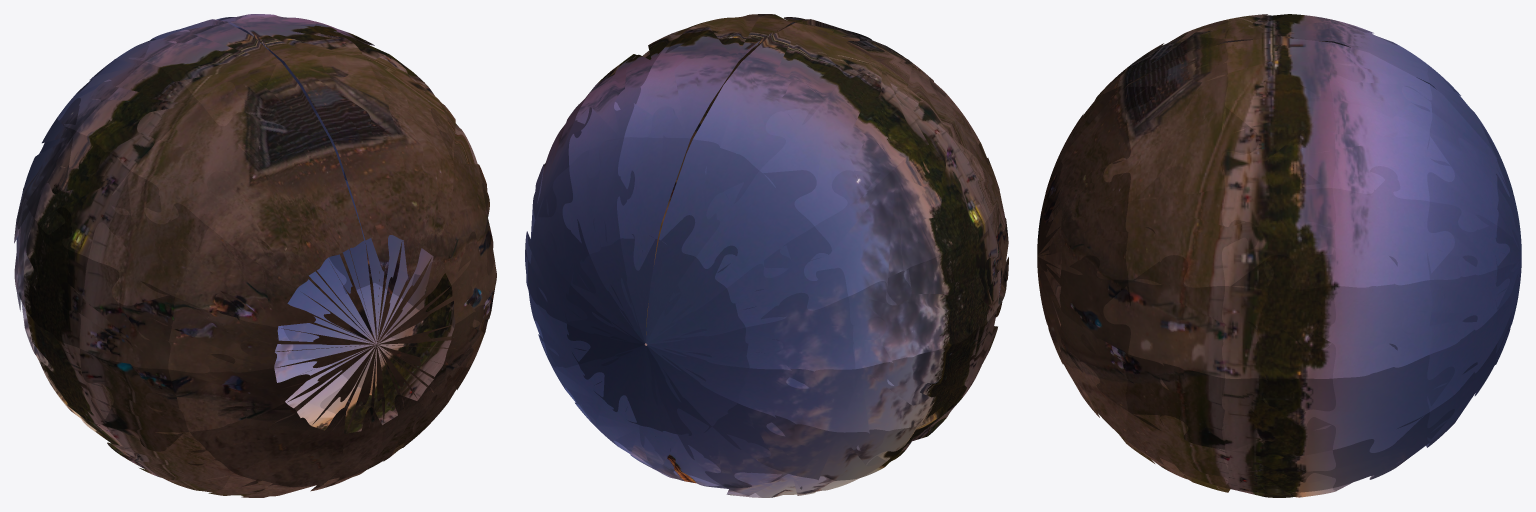
The model's file is medium_puzzle_v2.fbx.
3 renders of one model, left to right at view 1: azimuth 30°, elevation 25°; view 2: azimuth 150°, elevation 25°; view 3: azimuth 270°, elevation 25°, orthographic.
Visible parts, largest first — view 1: Street View 360 1.051, Street View 360 1.001, Street View 360 1.052, Street View 360 1.066, Street View 360 1.065, Street View 360 1.050, Street View 360 1.053, Street View 360 1.047, Street View 360 1.046, Street View 360 1.025, Street View 360 1.067, Street View 360 1.063 (+33 smaller); view 2: Street View 360 1.002, Street View 360 1.018, Street View 360 1.003, Street View 360 1.019, Street View 360 1.032, Street View 360 1.031, Street View 360 1.005, Street View 360 1.046, Street View 360 1.020, Street View 360 1.047, Street View 360 1.004, Street View 360 1.016 (+26 smaller); view 3: Street View 360 1.041, Street View 360 1.042, Street View 360 1.028, Street View 360 1.061, Street View 360 1.062, Street View 360 1.027, Street View 360 1.043, Street View 360 1.048, Street View 360 1.029, Street View 360 1.026, Street View 360 1.040, Street View 360 1.044 (+26 smaller).
Part boxes in pixels (x1,y1,x2,y2): Street View 360 1.051: (130,101,263,226); Street View 360 1.001: (253,229,457,432); Street View 360 1.052: (88,171,208,305); Street View 360 1.066: (159,227,315,327); Street View 360 1.065: (209,171,326,288); Street View 360 1.050: (199,62,329,181); Street View 360 1.053: (58,258,175,369); Street View 360 1.047: (34,131,131,257); Street View 360 1.046: (77,62,198,176); Street View 360 1.025: (282,257,404,379); Street View 360 1.067: (138,293,278,373); Street View 360 1.063: (332,107,405,271); Street View 360 1.002: (564,215,779,451); Street View 360 1.018: (804,170,940,305); Street View 360 1.003: (696,170,816,287); Street View 360 1.019: (848,258,964,385); Street View 360 1.032: (759,101,892,225); Street View 360 1.031: (693,62,823,174); Street View 360 1.005: (745,292,884,388); Street View 360 1.046: (825,62,946,173); Street View 360 1.020: (816,348,943,450); Street View 360 1.047: (893,131,988,257); Street View 360 1.004: (727,226,848,327); Street View 360 1.016: (617,109,690,270); Street View 360 1.041: (1222,255,1335,405); Street View 360 1.042: (1222,156,1335,289); Street View 360 1.028: (1300,166,1454,287); Street View 360 1.061: (1103,255,1257,389); Street View 360 1.062: (1125,166,1258,287); Street View 360 1.027: (1299,256,1432,378); Street View 360 1.043: (1222,75,1335,189); Street View 360 1.048: (1103,102,1258,201); Street View 360 1.029: (1302,102,1454,201); Street View 360 1.026: (1299,343,1454,452); Street View 360 1.040: (1222,378,1335,455); Street View 360 1.044: (1195,37,1365,102).
Bounding box in the file's own units: 3737 × 3743 × 3749.
